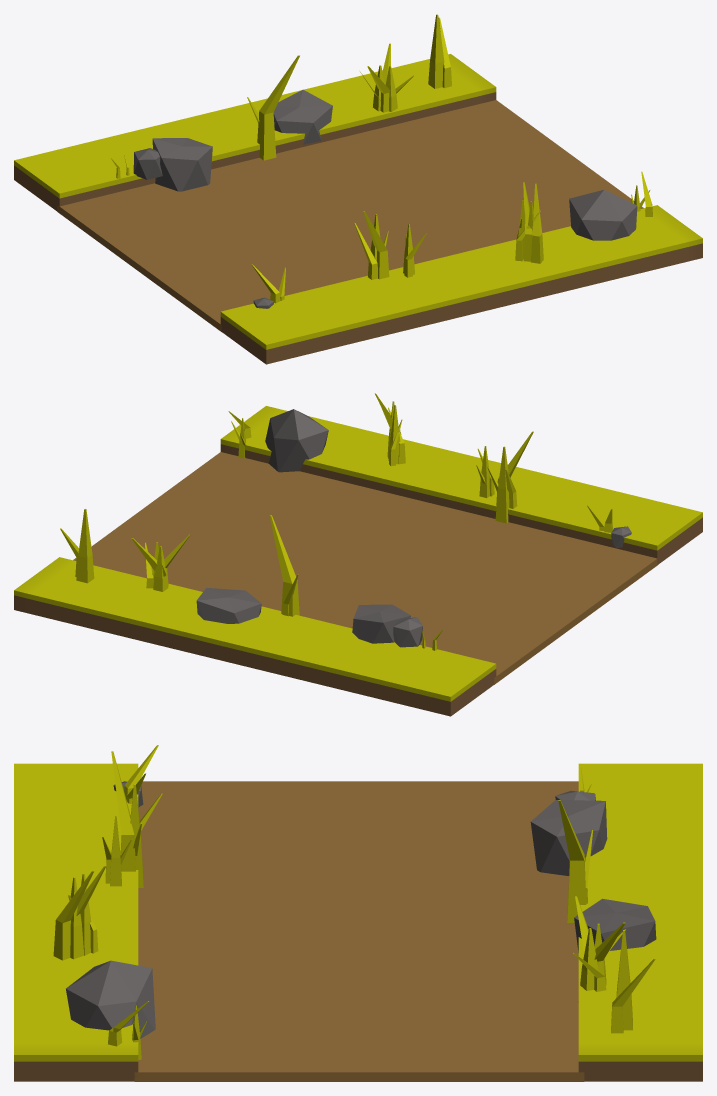
File: CHEMIN 3.fbx
3 views of the same model, one above another, from view 1: azimuth 30°, elevation 25°; view 2: azimuth 150°, elevation 25°; view 3: azimuth 270°, elevation 25° (orthographic). The views are drawn at different scales.
Visible parts, largest first — view 1: Stone_1.003; view 2: Stone_1.003; view 3: Stone_1.003.
Boxes of the visible parts, x1,y1,x2,y2 form: Stone_1.003: [14, 14, 702, 364]; Stone_1.003: [14, 393, 702, 716]; Stone_1.003: [14, 745, 702, 1081].
Bounding box in the file's own units: 400 × 100 × 400.
